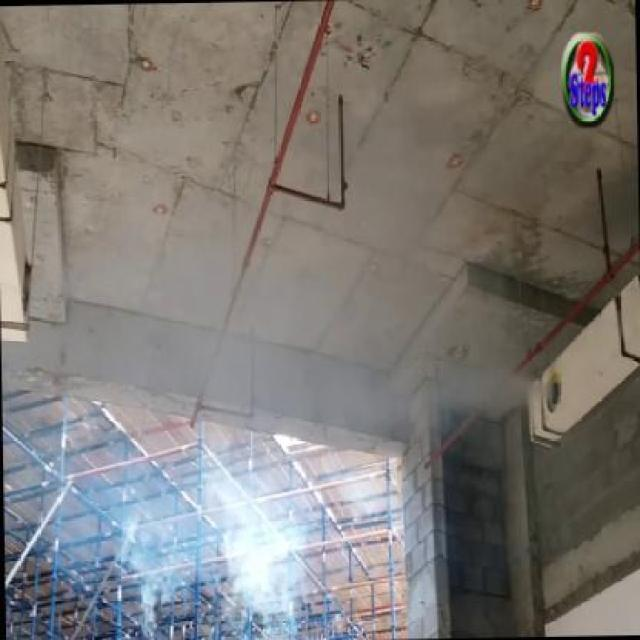fire: (202, 447, 313, 640), (387, 332, 547, 410)
